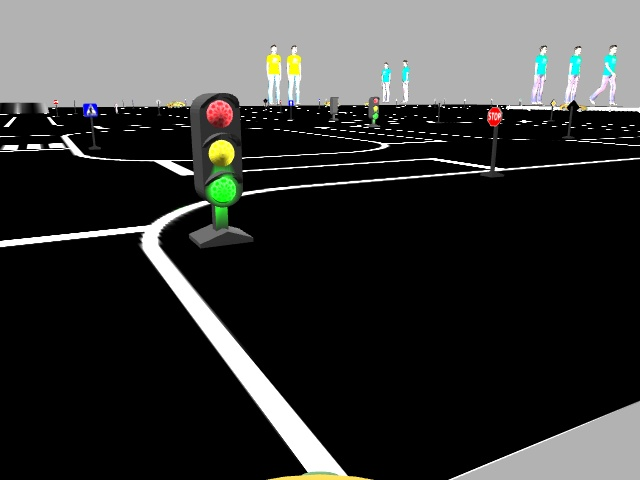Crosswalk: (83, 102, 95, 117)
Stop: (486, 105, 500, 126)
TrafficLight: (189, 90, 241, 204)
